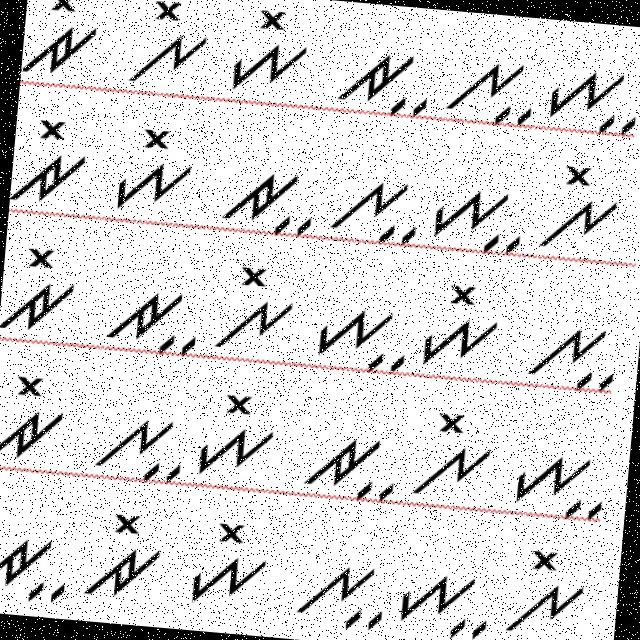lah: (520, 314, 622, 399), (289, 552, 388, 638), (90, 406, 191, 488), (444, 41, 538, 126), (325, 170, 424, 248)
lo: (533, 157, 628, 259), (118, 0, 217, 92), (502, 540, 593, 639), (407, 406, 497, 505), (215, 260, 298, 358)
rah: (333, 34, 438, 121), (216, 157, 320, 242), (97, 276, 203, 357), (302, 425, 401, 503), (0, 528, 73, 607)
ro: (79, 503, 168, 609), (9, 113, 93, 214), (0, 244, 82, 338), (21, 0, 108, 88), (0, 370, 74, 466)
yah: (506, 440, 612, 528), (307, 292, 413, 376), (426, 176, 531, 260), (543, 52, 639, 138), (396, 565, 497, 639)
yo: (225, 0, 318, 102), (190, 382, 281, 482), (415, 277, 509, 371), (110, 122, 202, 218), (183, 512, 271, 612)
